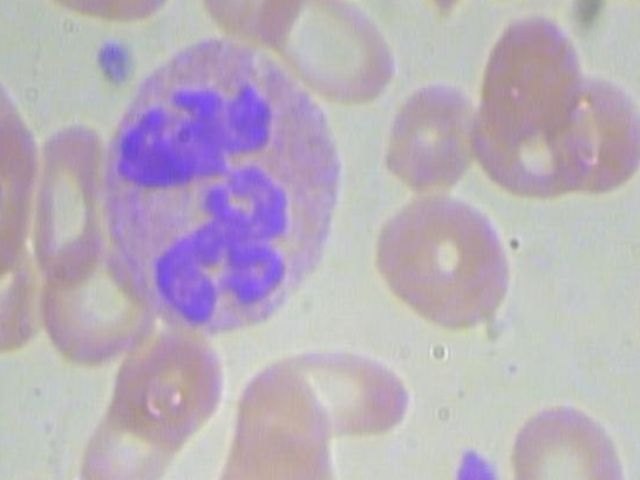Platelets: (81, 33, 135, 100), (432, 440, 506, 480), (0, 173, 3, 227)
RBC: (372, 179, 516, 339), (235, 342, 427, 436), (249, 0, 398, 111), (220, 353, 340, 480), (38, 256, 154, 380), (379, 71, 487, 186), (27, 121, 104, 280), (501, 392, 640, 480), (477, 10, 584, 124), (198, 0, 311, 51), (23, 0, 125, 12)
WBC: (104, 34, 337, 332)
